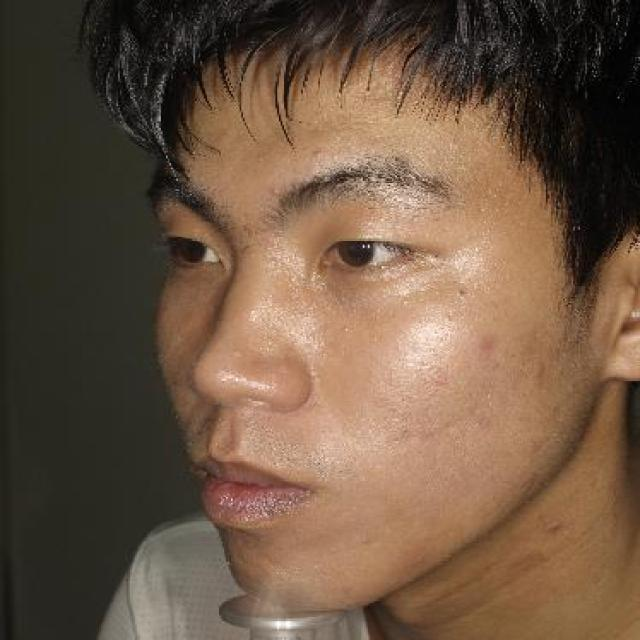acne: (473, 326, 509, 362)
nodules: (436, 311, 462, 328), (336, 322, 360, 339), (392, 295, 416, 311), (306, 145, 327, 162)
